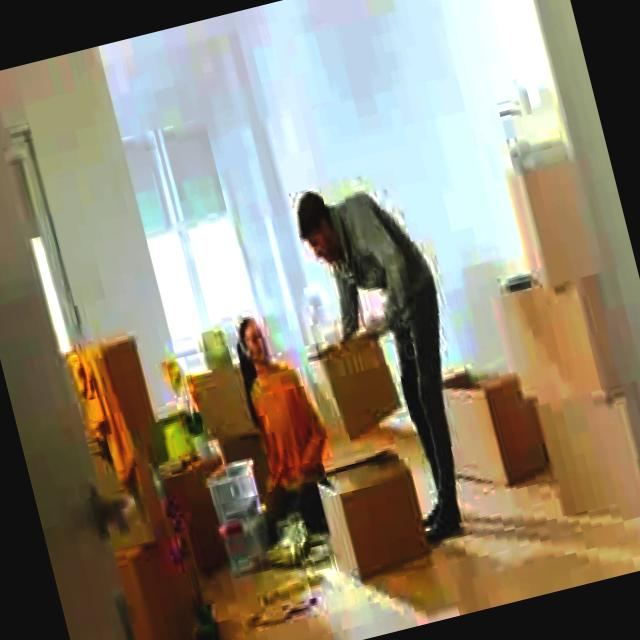Box: (496, 280, 622, 407), (533, 389, 640, 533), (506, 156, 600, 288), (318, 452, 422, 566), (309, 337, 402, 444), (446, 370, 527, 480)
